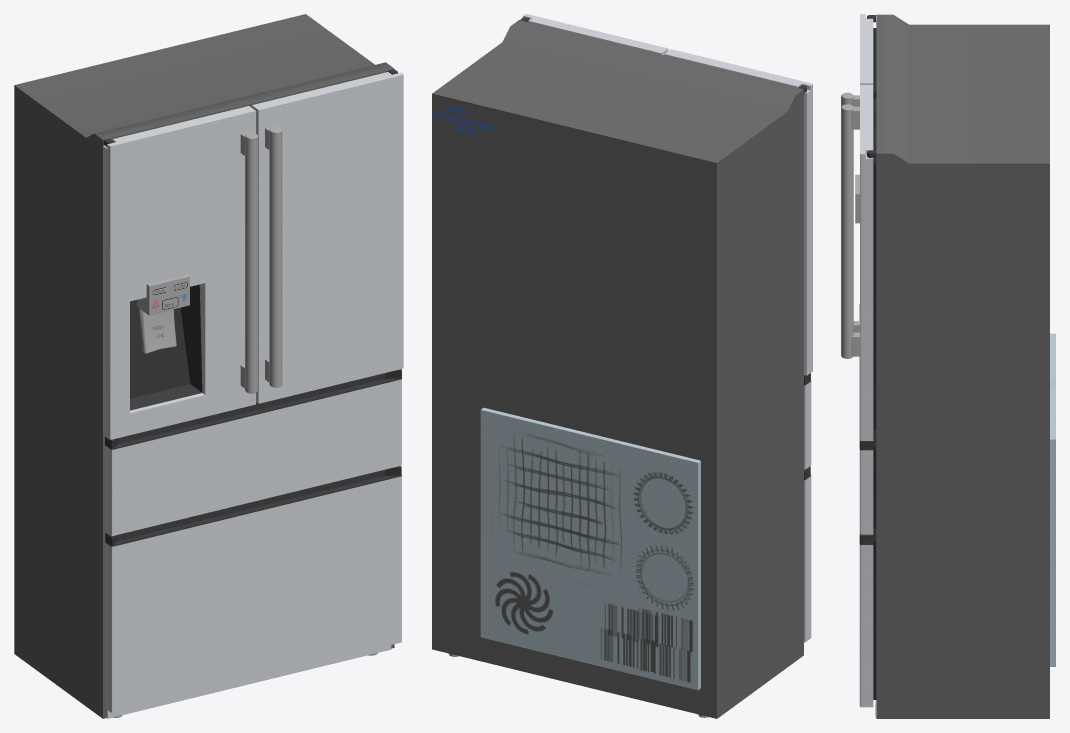
File: french_door_fridge.gltf
3 views of the same model, side by side, from view 1: azimuth 30°, elevation 25°; view 2: azimuth 150°, elevation 25°; view 3: azimuth 270°, elevation 25° (orthographic). The views are drawn at different scales.
Visible parts, largest first — view 1: pCube17; view 2: pCube17; view 3: pCube17.
Boxes of the visible parts, <box> form: pCube17: <box>14,14,403,718</box>; pCube17: <box>432,14,812,718</box>; pCube17: <box>841,14,1055,718</box>.
Bounding box in the file's own units: 0.9595 × 1.82 × 0.6206.
Materials: 6 (6 with a texture image).
